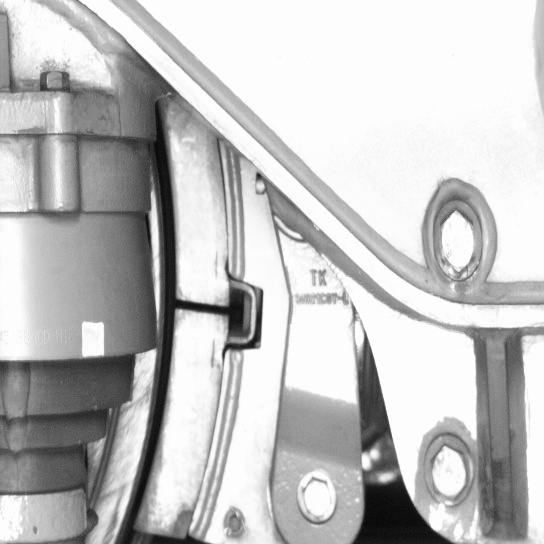KnifeSwitch: (113, 134, 238, 541)
